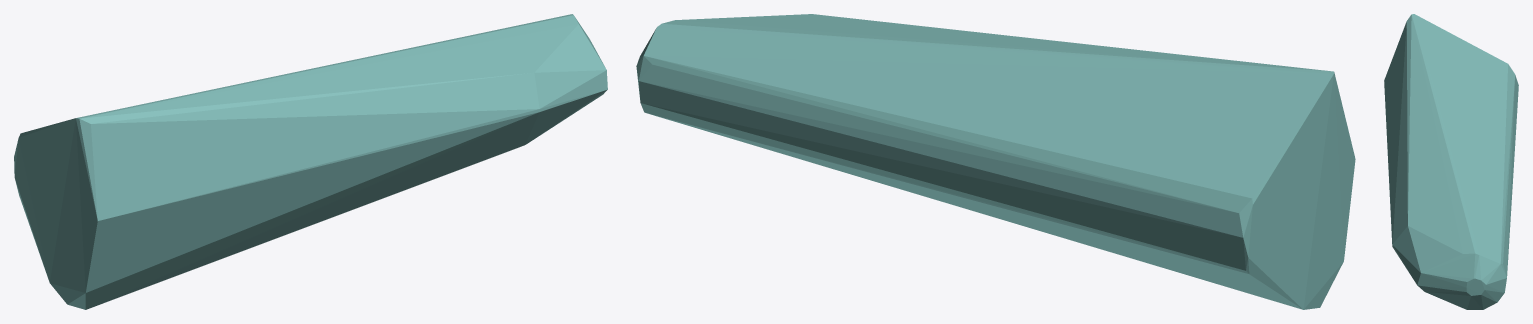
File: syringe_a04.glb
The picture shows the model from 3 angles, left to right: view 1: azimuth 30°, elevation 25°; view 2: azimuth 150°, elevation 25°; view 3: azimuth 270°, elevation 25°; orthographic projection. The views are drawn at different scales.
Parts seen in each view (by area): view 1: geometry_0; view 2: geometry_0; view 3: geometry_0.
Part boxes in pixels (box(x1,y1,x2,y2)): geometry_0: box(14, 14, 607, 309); geometry_0: box(636, 14, 1355, 309); geometry_0: box(1384, 14, 1518, 309).
Size of the model in its own units: 0.48 by 0.1614 by 0.1356.
